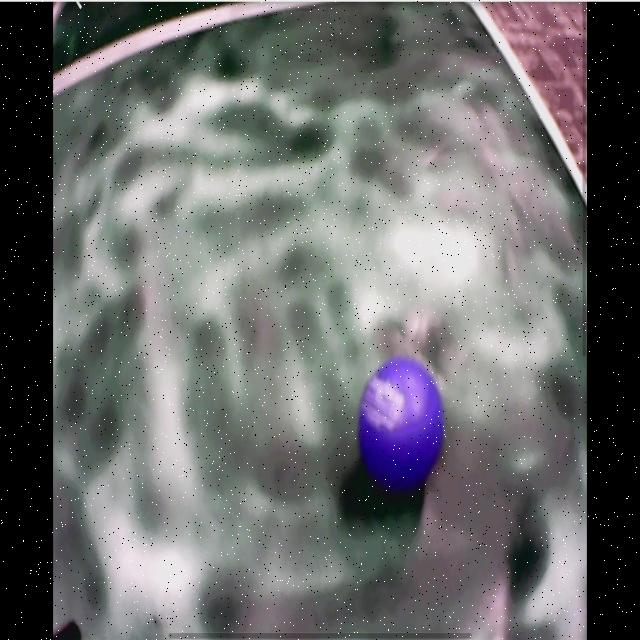ball: (361, 359, 445, 487)
